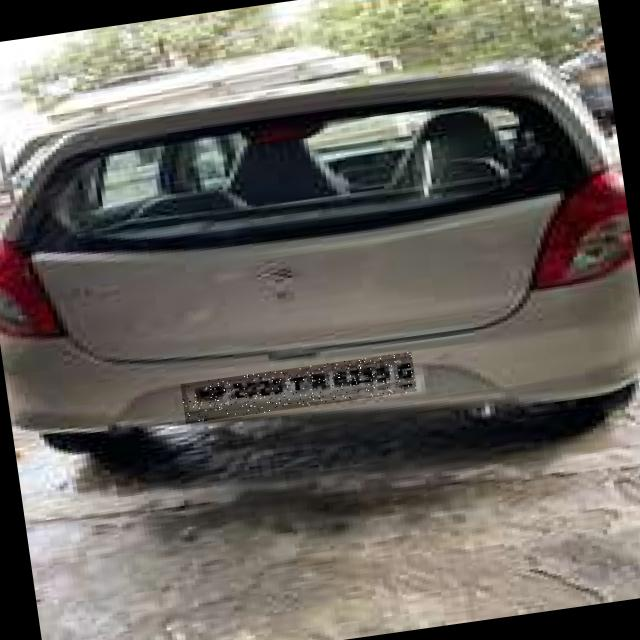Plate: (182, 353, 418, 425)
